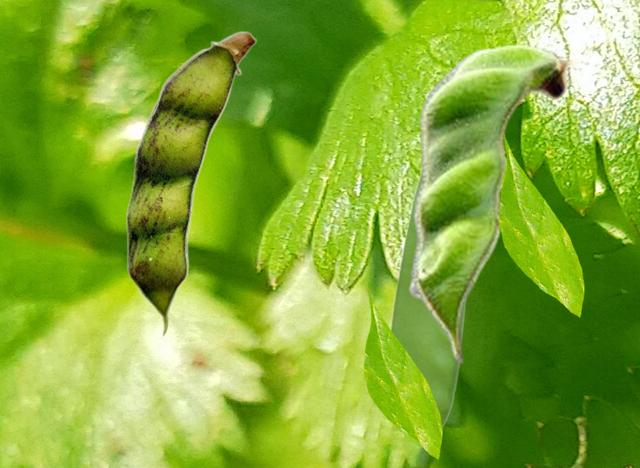pea: (407, 43, 578, 363), (126, 30, 256, 336), (388, 171, 467, 431)
